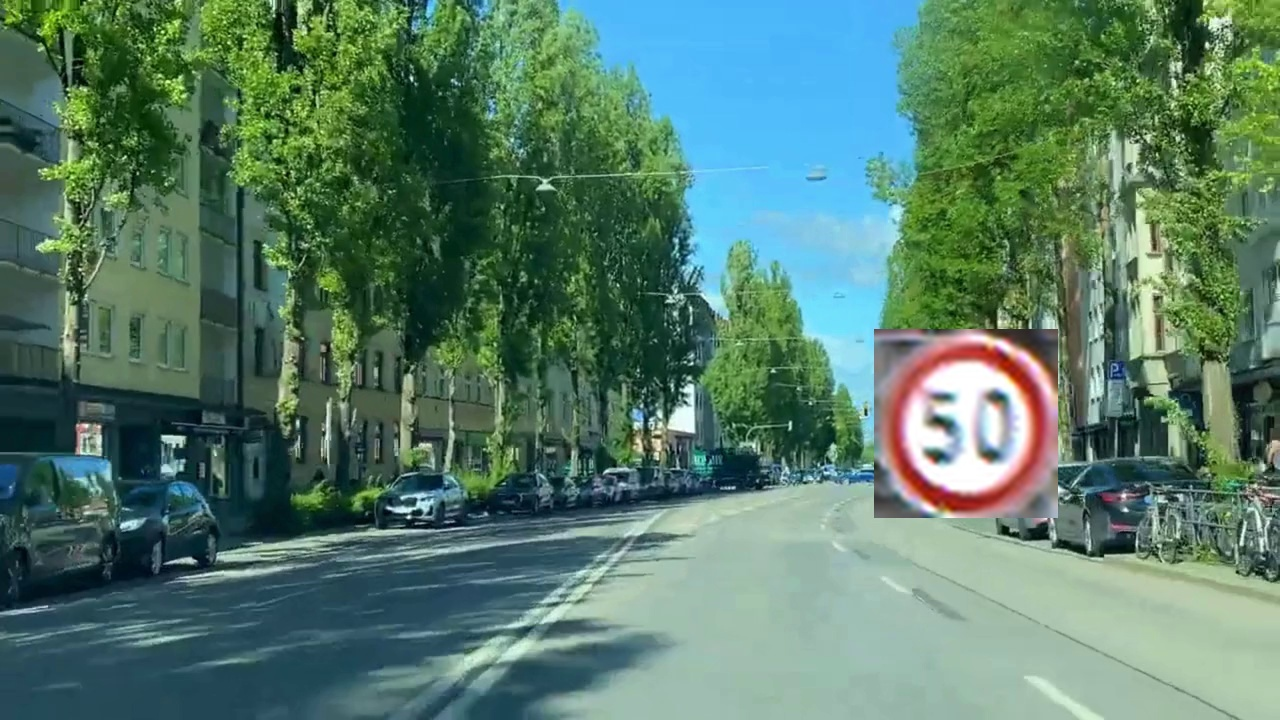Speed 50: (874, 329, 1058, 518)
